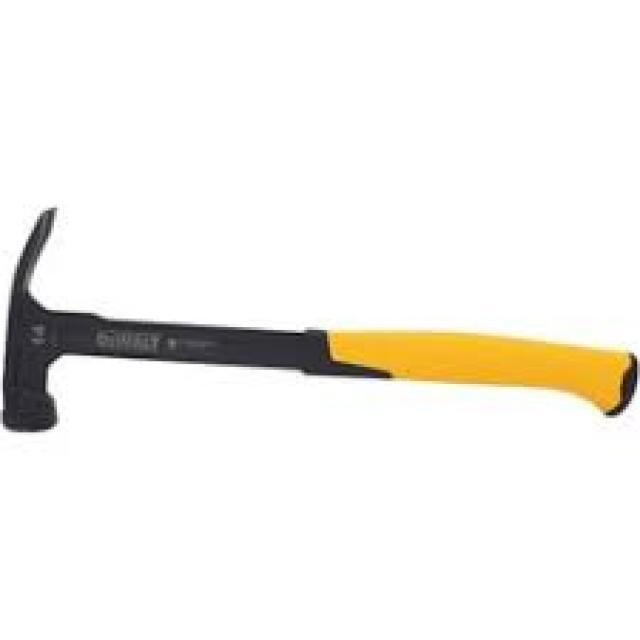hammer: (0, 198, 640, 441)
